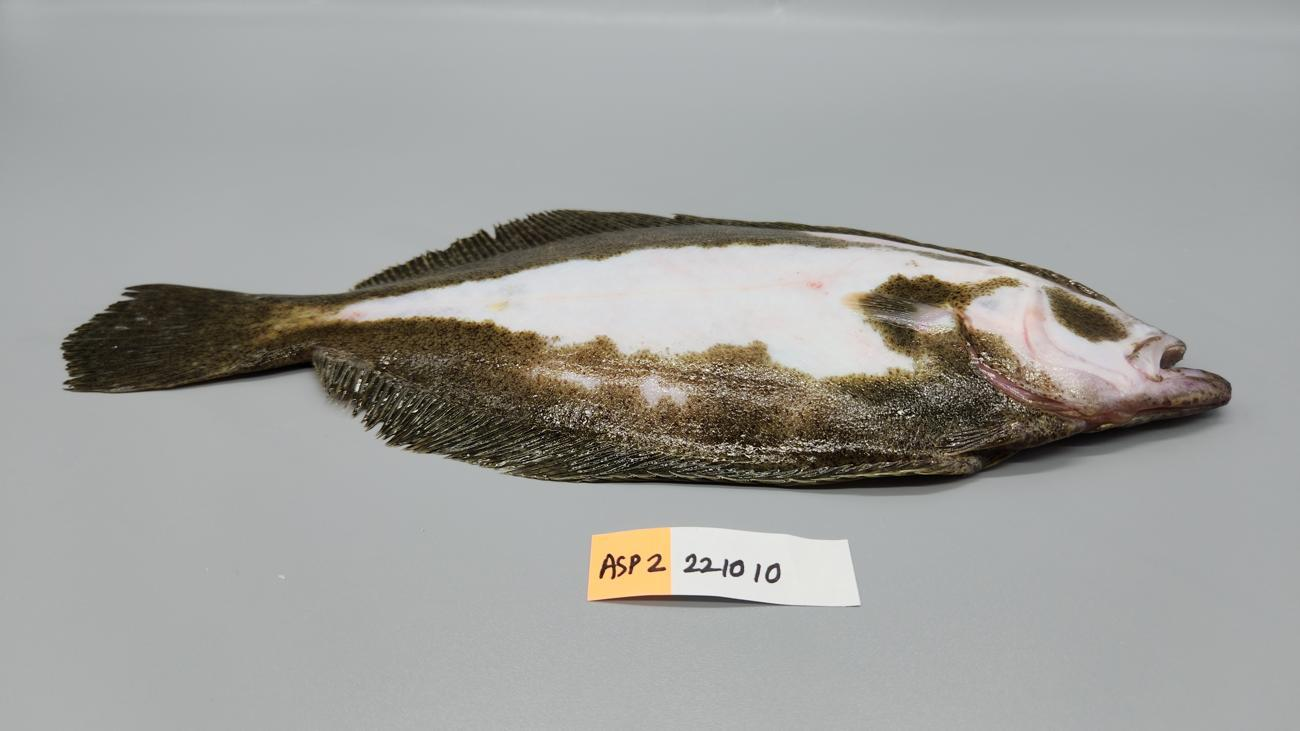SPDYH: (875, 268, 956, 303), (789, 267, 837, 300), (909, 307, 958, 334)
SPOUY: (51, 200, 1241, 498)
